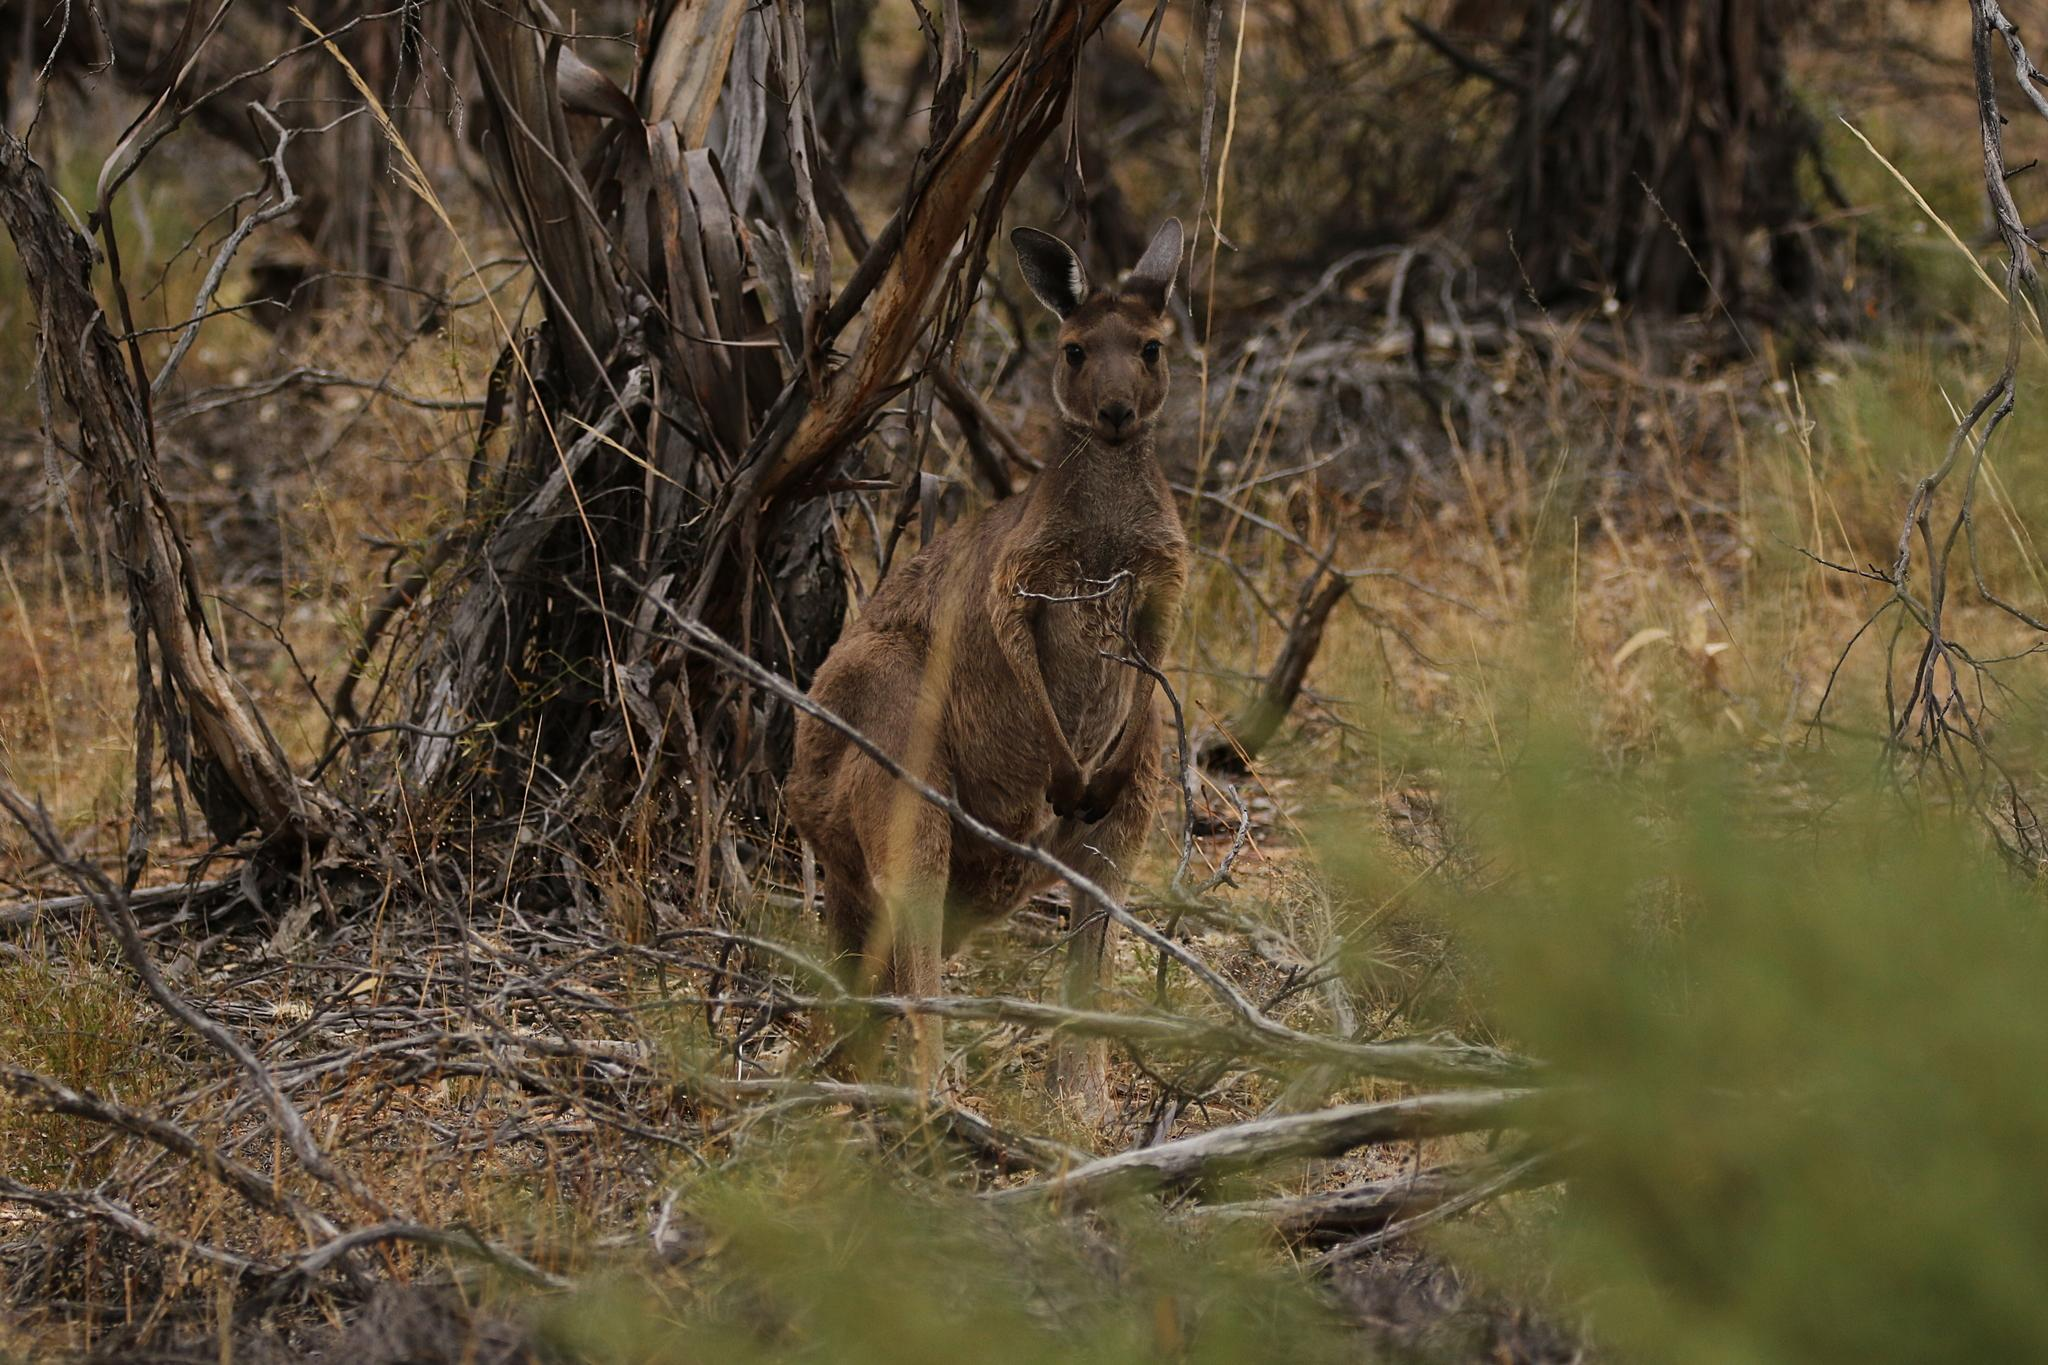Western grey kangaroo: (772, 212, 1204, 1123)
